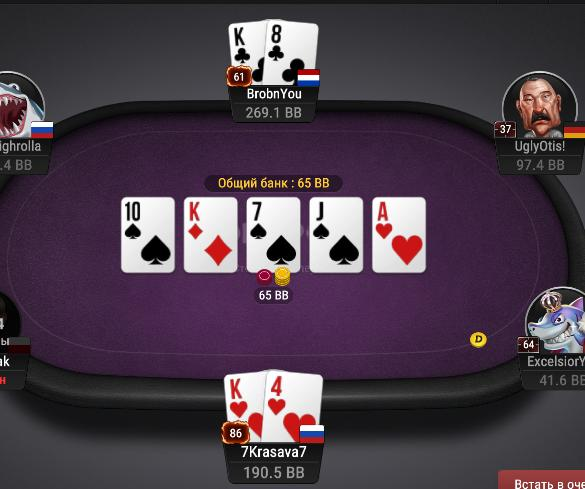10s: (120, 198, 175, 272)
4h: (265, 369, 321, 446)
7s: (247, 198, 300, 272)
8c: (265, 17, 318, 86)
Ah: (372, 196, 425, 272)
Js: (311, 199, 363, 271)
Kc: (227, 20, 267, 86)
Kd: (186, 198, 239, 273)
Kh: (221, 372, 265, 444)
